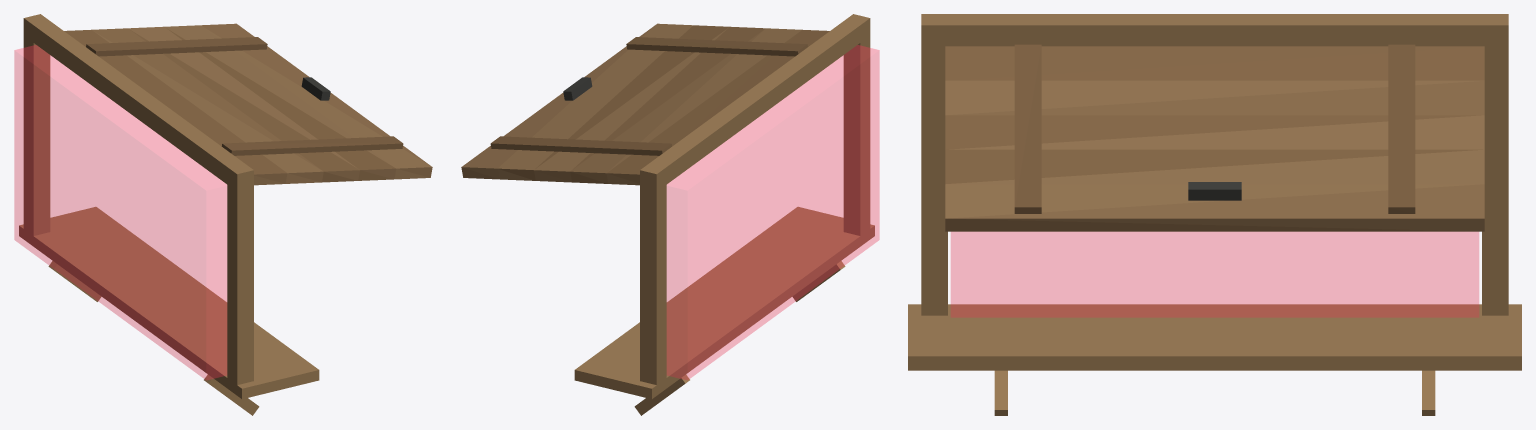
Rendered from sigurd_hatch_integration.glb.
The picture shows the model from 3 angles, left to right: view 1: azimuth 30°, elevation 25°; view 2: azimuth 150°, elevation 25°; view 3: azimuth 270°, elevation 25°; orthographic projection. The views are drawn at different scales.
Visible parts, largest first — view 1: SIGURD_HATCH_CUT_VOLUME, SIGURD_HATCH_FRAME_PATCH_Frame_Counter, SIGURD_HATCH_FRAME_PATCH_HatchFlap_Open_Wood_Natural, SIGURD_HATCH_FRAME_PATCH_HatchFlap_Open_Metal; view 2: SIGURD_HATCH_CUT_VOLUME, SIGURD_HATCH_FRAME_PATCH_Frame_Counter, SIGURD_HATCH_FRAME_PATCH_HatchFlap_Open_Wood_Natural, SIGURD_HATCH_FRAME_PATCH_HatchFlap_Open_Metal; view 3: SIGURD_HATCH_FRAME_PATCH_HatchFlap_Open_Wood_Natural, SIGURD_HATCH_FRAME_PATCH_Frame_Counter, SIGURD_HATCH_CUT_VOLUME, SIGURD_HATCH_FRAME_PATCH_HatchFlap_Open_Metal.
Part boxes in pixels (left/top/right/bottom): SIGURD_HATCH_CUT_VOLUME: left=14, top=45, right=226, bottom=380; SIGURD_HATCH_FRAME_PATCH_Frame_Counter: left=19, top=14, right=319, bottom=415; SIGURD_HATCH_FRAME_PATCH_HatchFlap_Open_Wood_Natural: left=64, top=23, right=432, bottom=185; SIGURD_HATCH_FRAME_PATCH_HatchFlap_Open_Metal: left=301, top=77, right=330, bottom=100; SIGURD_HATCH_CUT_VOLUME: left=667, top=45, right=879, bottom=380; SIGURD_HATCH_FRAME_PATCH_Frame_Counter: left=574, top=14, right=874, bottom=415; SIGURD_HATCH_FRAME_PATCH_HatchFlap_Open_Wood_Natural: left=461, top=23, right=829, bottom=185; SIGURD_HATCH_FRAME_PATCH_HatchFlap_Open_Metal: left=563, top=77, right=592, bottom=100; SIGURD_HATCH_FRAME_PATCH_HatchFlap_Open_Wood_Natural: left=945, top=44, right=1484, bottom=231; SIGURD_HATCH_FRAME_PATCH_Frame_Counter: left=908, top=14, right=1521, bottom=415; SIGURD_HATCH_CUT_VOLUME: left=951, top=232, right=1478, bottom=317; SIGURD_HATCH_FRAME_PATCH_HatchFlap_Open_Metal: left=1188, top=182, right=1241, bottom=200.
Bounding box in the file's own units: 1.34 × 1.54 × 2.3.
